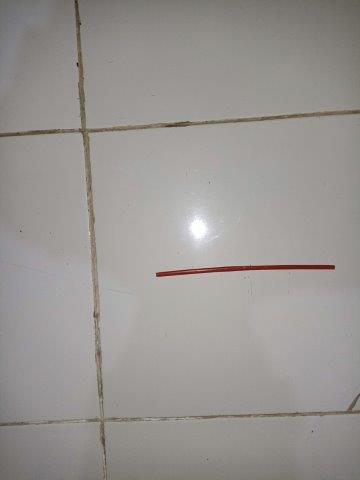sedotan: (155, 264, 335, 277)
